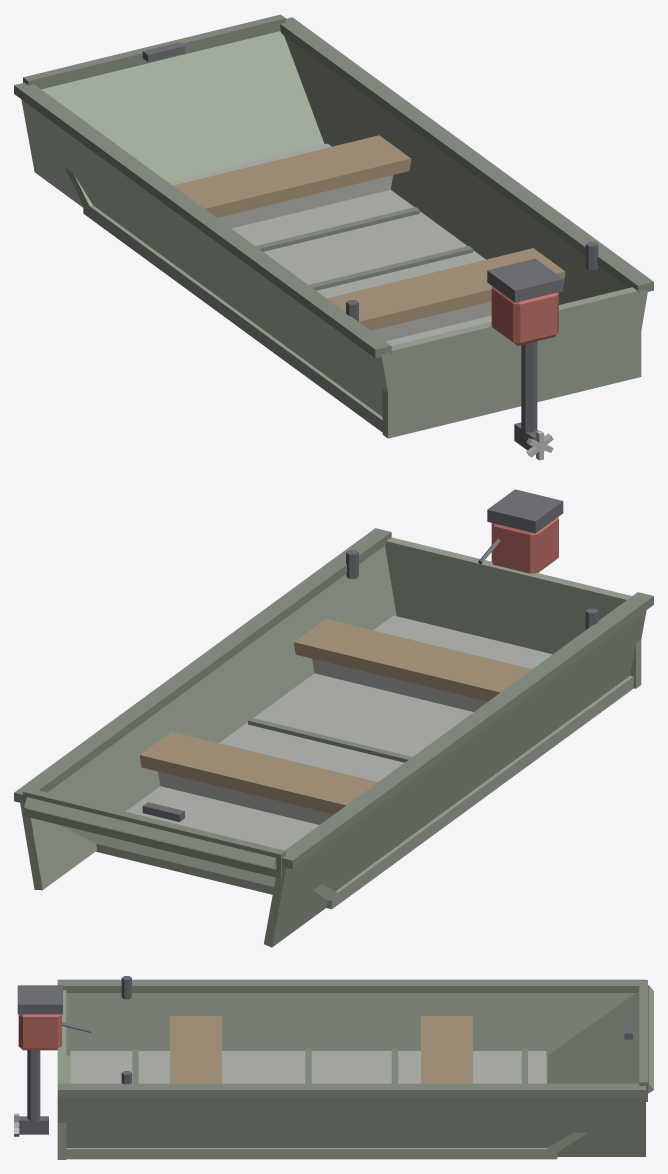
File: JonBoat.glb
3 views of the same model, one above another, from view 1: azimuth 30°, elevation 25°; view 2: azimuth 150°, elevation 25°; view 3: azimuth 270°, elevation 25° (orthographic). The views are drawn at different scales.
Parts seen in each view (by area): view 1: JonBoat; view 2: JonBoat; view 3: JonBoat.
Boxes of the visible parts, box(x1,y1,x2,y2) form: JonBoat: box(14, 14, 653, 460); JonBoat: box(14, 489, 653, 947); JonBoat: box(14, 976, 653, 1159).
Bounding box in the file's own units: 6.05 × 3.6 × 14.8.
